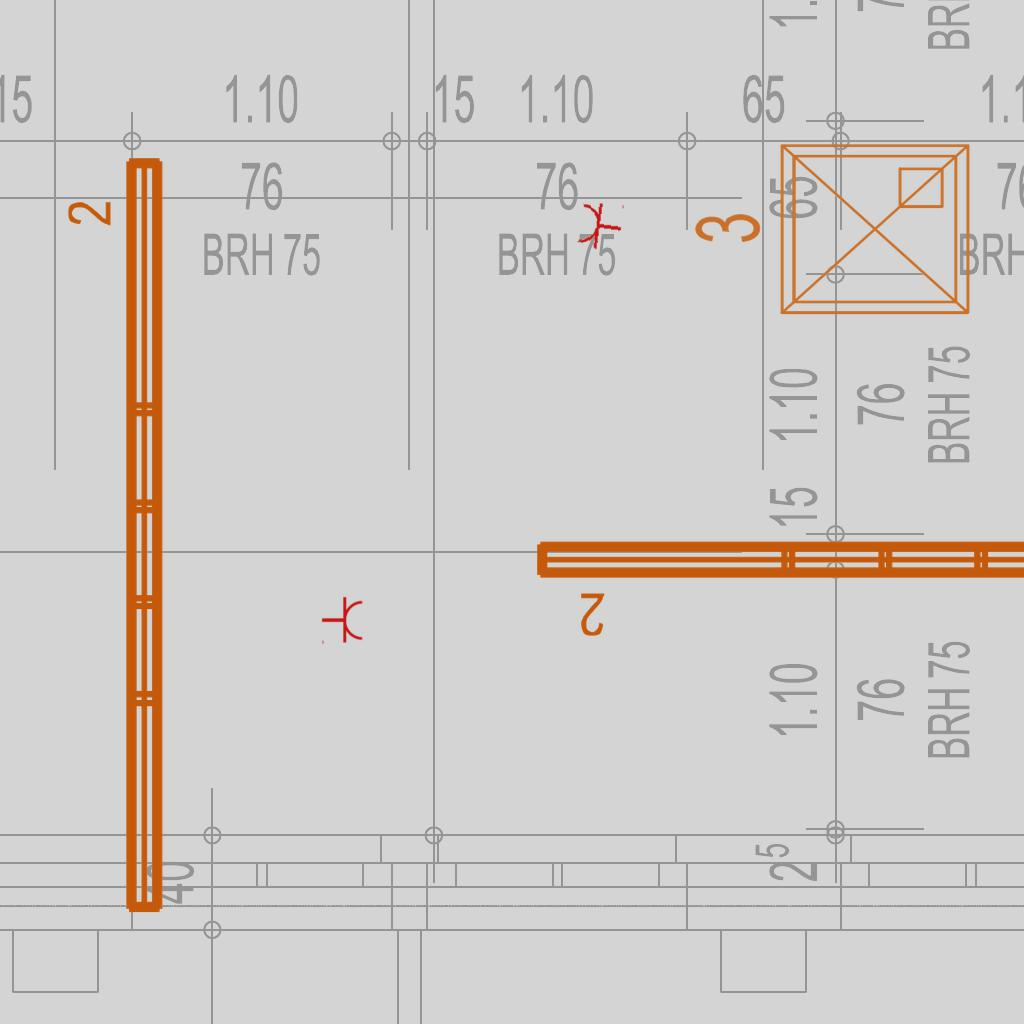Ambulanz_Pendelleuchte_LED: (63, 149, 175, 923), (528, 529, 1024, 641)
Einbaudownlights_LED_Konferenzraeume: (684, 129, 984, 337)
Schukosteckdose_einfach: (575, 197, 626, 253), (321, 596, 364, 646)
